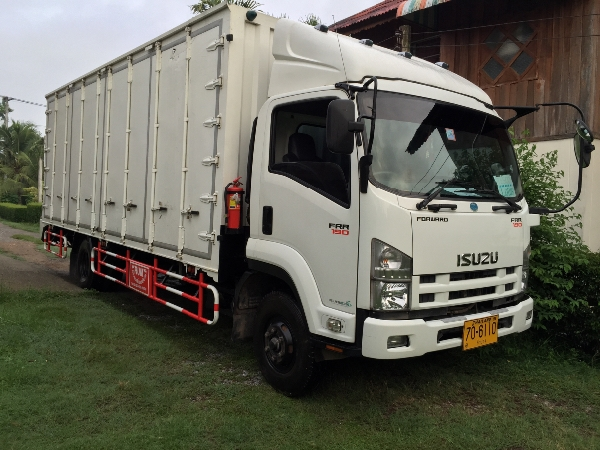truck: (41, 4, 535, 398)
